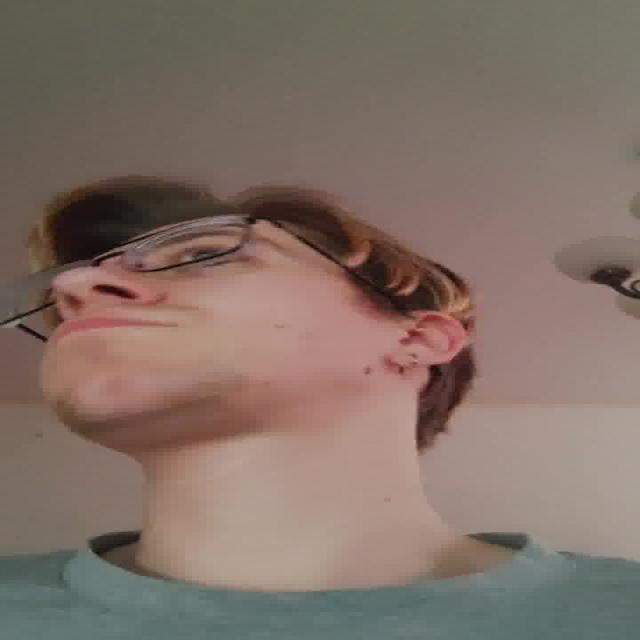earlobe: (388, 352, 436, 368)
eye: (168, 248, 248, 269)
nose: (54, 299, 156, 318)
wholeear: (385, 310, 469, 367)
